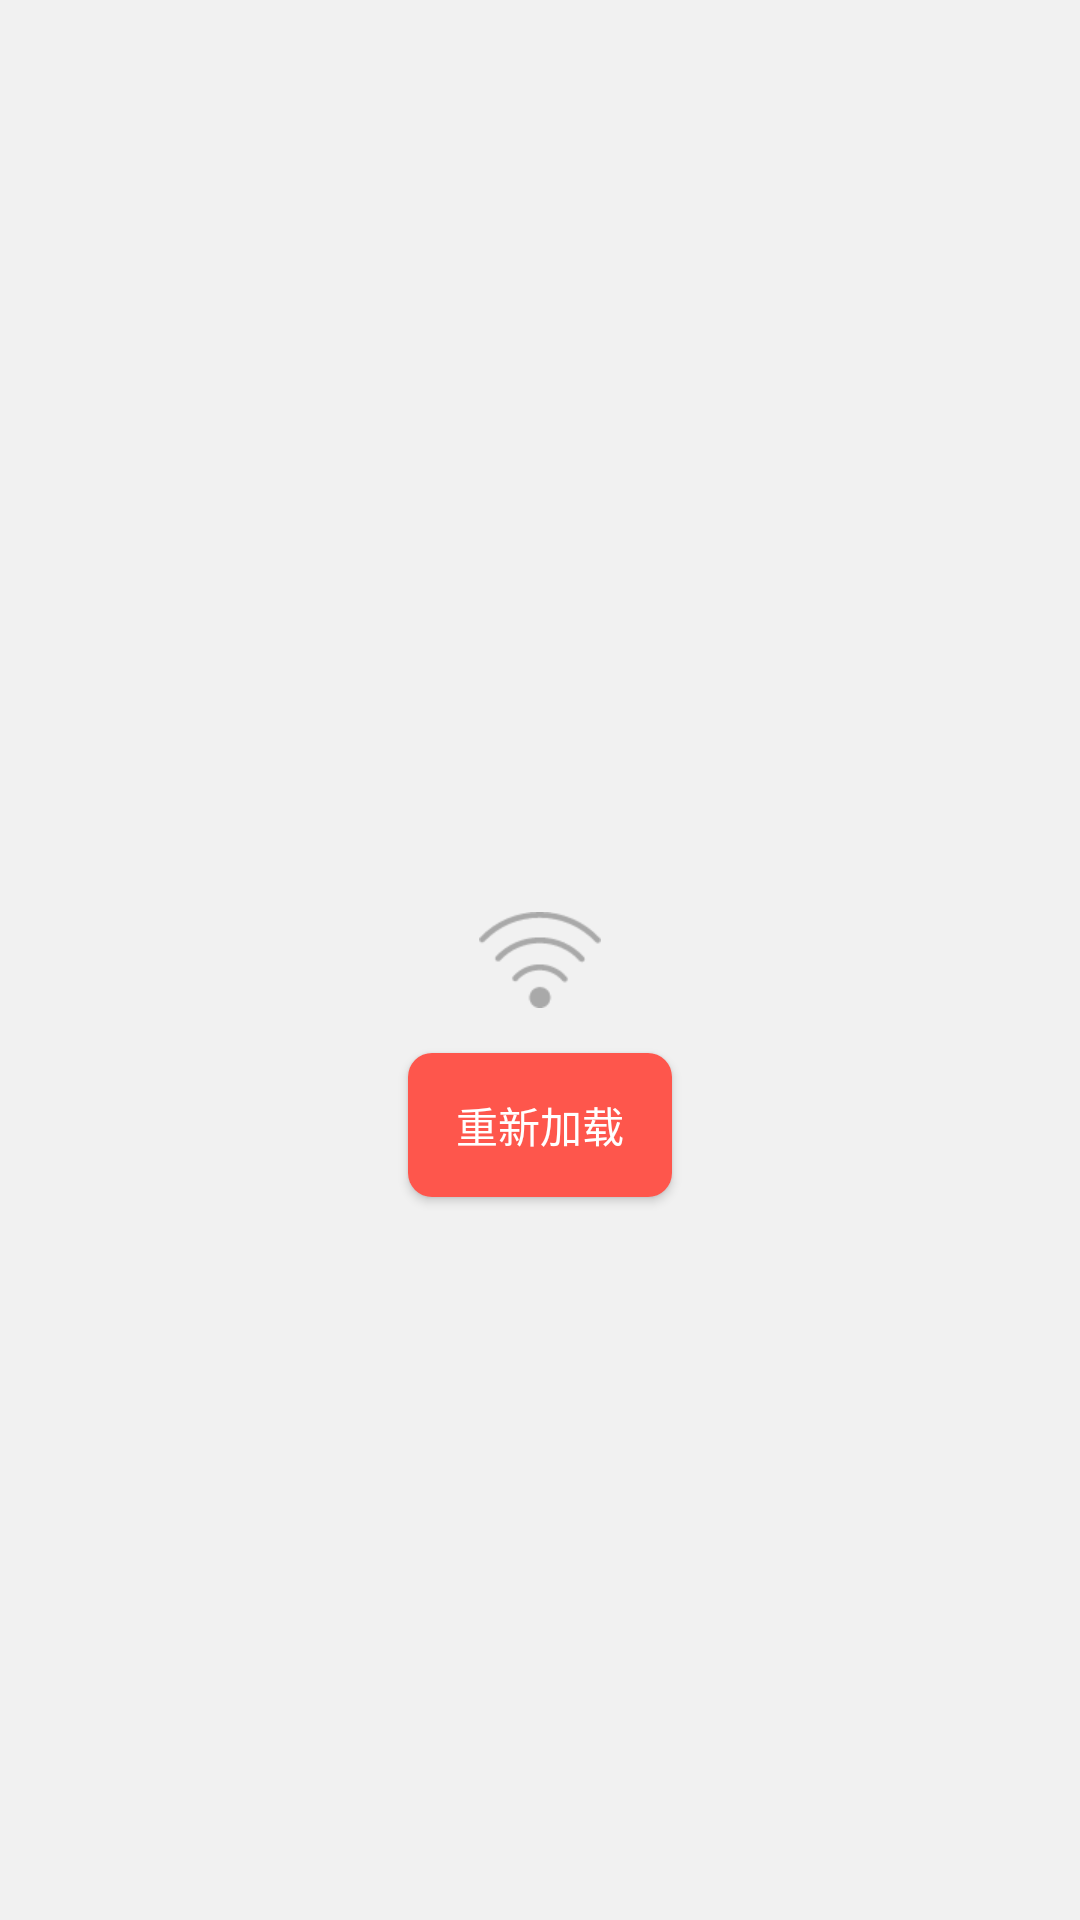

Icon click points for this 1080 x 1920 phone screenshot, format [x,y]:
no network: [540,960]
